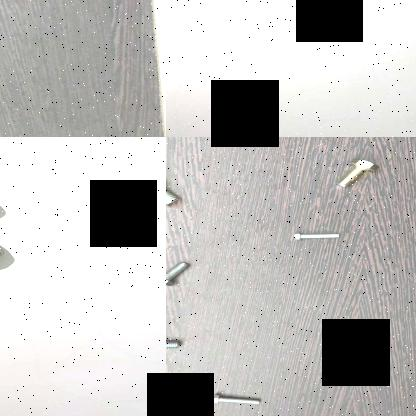Bolts: (329, 157, 383, 190), (286, 226, 344, 242), (166, 259, 191, 289), (166, 168, 183, 206), (166, 333, 187, 355)
NUTS: (0, 196, 9, 216)
